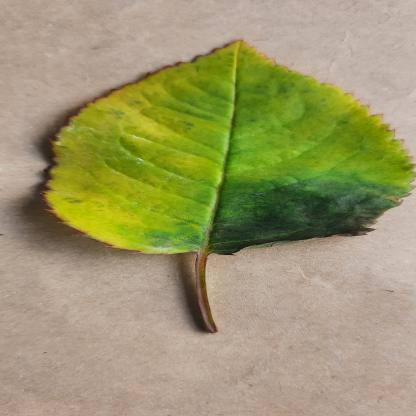black-spot: (38, 37, 416, 250)
